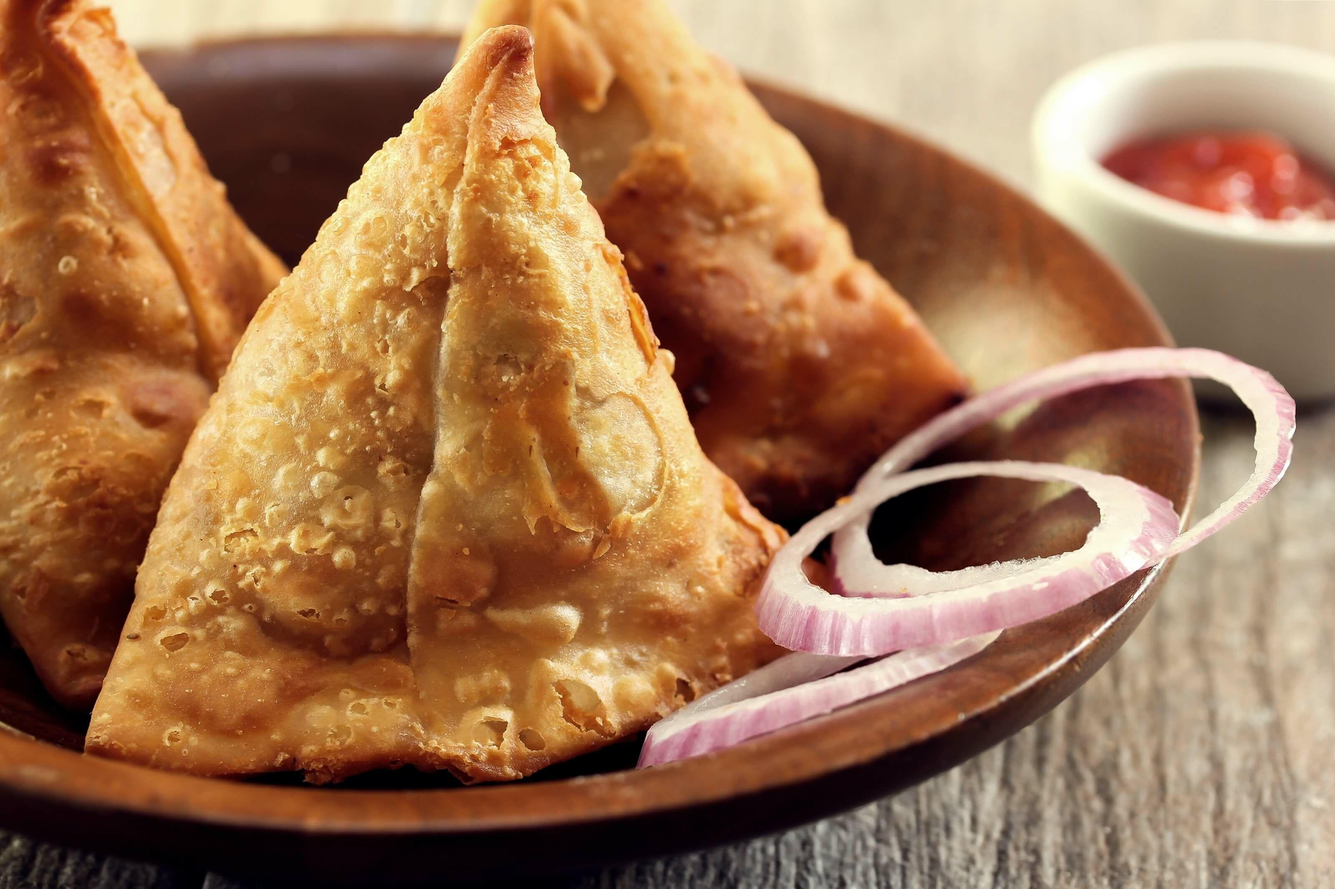Samosa: (89, 28, 816, 783), (409, 0, 964, 497), (0, 0, 270, 697)
